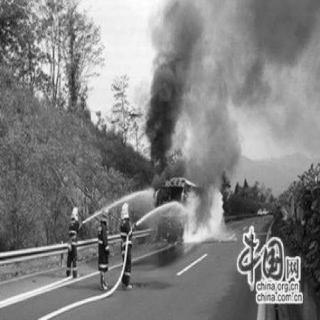other: (238, 220, 304, 308)
